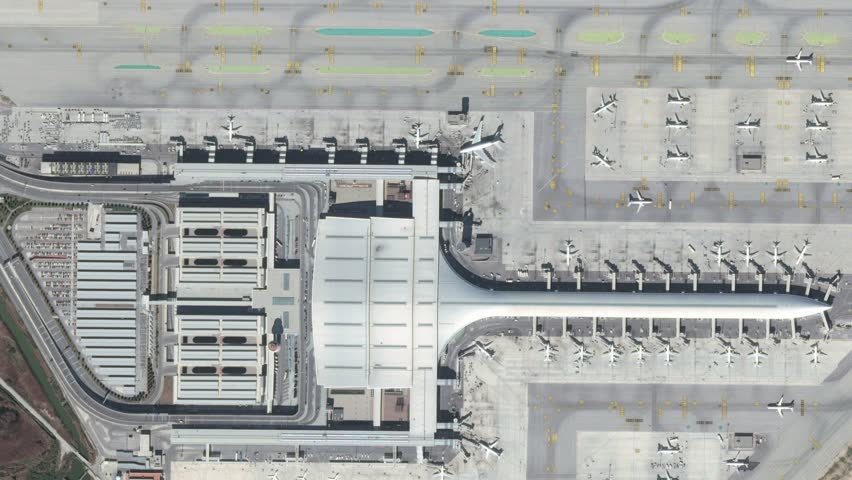aircraft: (459, 116, 505, 173), (790, 235, 814, 270), (654, 433, 683, 461), (766, 393, 794, 421), (804, 111, 831, 139), (665, 144, 692, 170), (765, 238, 788, 267), (708, 240, 730, 270), (808, 88, 834, 113), (555, 239, 580, 265), (593, 94, 620, 118), (787, 47, 814, 71), (406, 124, 431, 149), (478, 435, 506, 457), (626, 189, 651, 213), (737, 113, 760, 139), (666, 86, 691, 109), (631, 339, 652, 366), (738, 240, 757, 269), (591, 146, 613, 171), (221, 114, 241, 141), (808, 342, 827, 370), (572, 342, 593, 367), (539, 341, 560, 365), (659, 341, 680, 365), (665, 116, 691, 134), (720, 342, 738, 368), (601, 342, 621, 365), (750, 341, 768, 366), (807, 150, 827, 169), (433, 462, 452, 478)
